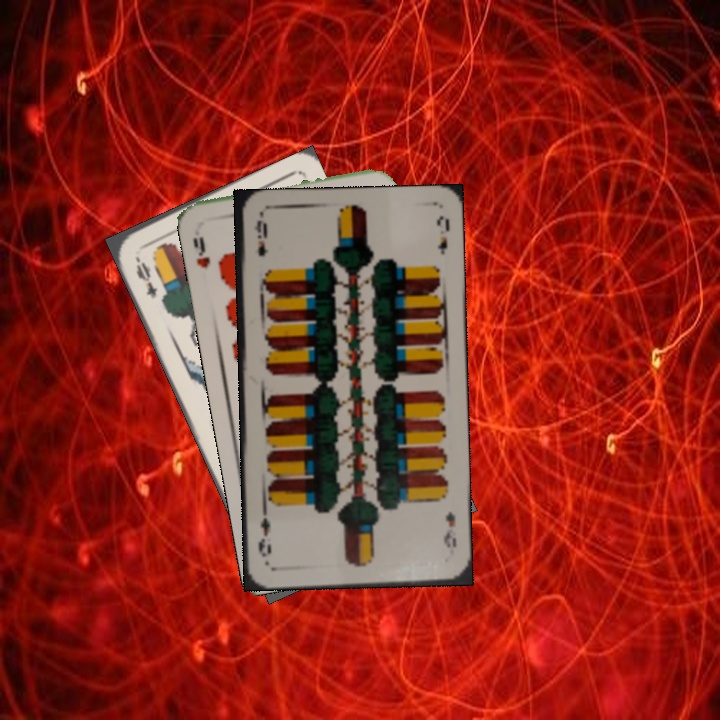E9: (250, 216, 270, 259), (439, 508, 459, 551)
EO: (130, 252, 160, 302)
H9: (189, 233, 213, 271)
